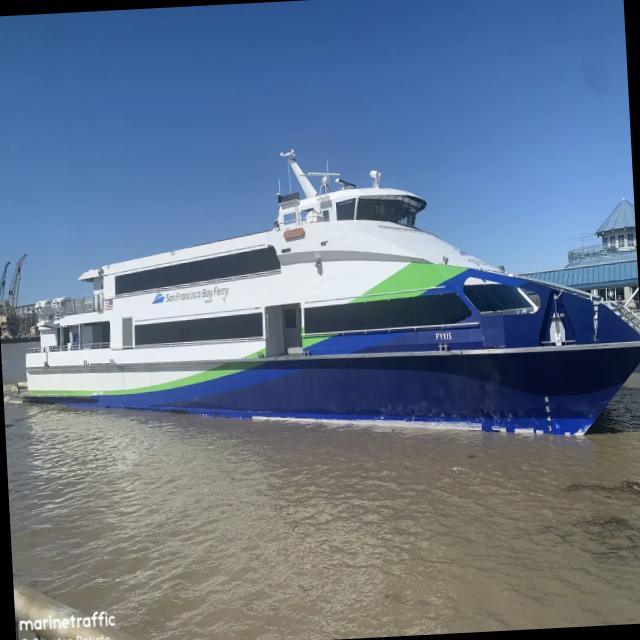Passenger: (26, 151, 640, 434)
